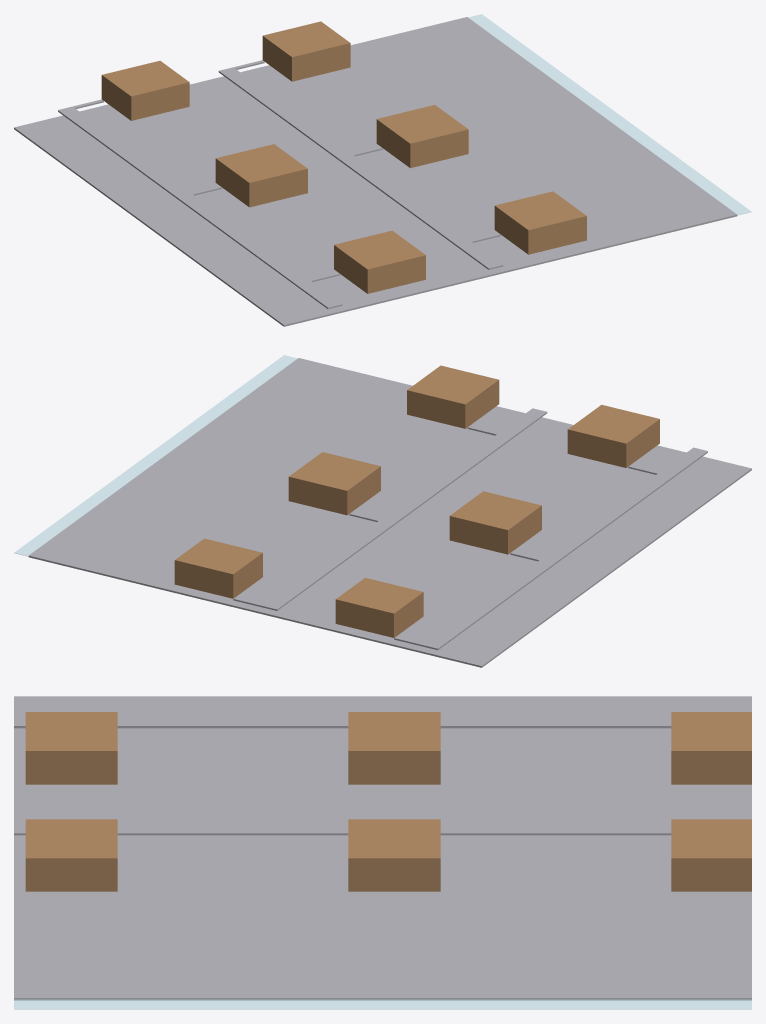
The model's file is city_c02_01.glb.
3 views of the same model, one above another, from view 1: azimuth 30°, elevation 25°; view 2: azimuth 150°, elevation 25°; view 3: azimuth 270°, elevation 25° (orthographic). The views are drawn at different scales.
Visible parts, largest first — view 1: terrain_east_proxy__c02_01, road_east_0__c02_01, road_east_1__c02_01, building_035__c02_01, building_036__c02_01, building_045__c02_01, building_046__c02_01, building_025__c02_01, building_026__c02_01, river_water_proxy__c02_01; view 2: terrain_east_proxy__c02_01, road_east_0__c02_01, road_east_1__c02_01, building_036__c02_01, building_045__c02_01, building_035__c02_01, building_046__c02_01, building_025__c02_01, building_026__c02_01, river_water_proxy__c02_01; view 3: terrain_east_proxy__c02_01, river_water_proxy__c02_01, building_035__c02_01, building_036__c02_01, building_045__c02_01, building_046__c02_01, road_east_1__c02_01, road_east_0__c02_01, building_025__c02_01, building_026__c02_01.
Boxes of the visible parts, x1,y1,x2,y2 form: terrain_east_proxy__c02_01: (14,17,737,326); road_east_0__c02_01: (218,67,503,269); road_east_1__c02_01: (58,106,342,309); building_035__c02_01: (376,105,468,168); building_036__c02_01: (215,144,307,207); building_045__c02_01: (494,191,586,254); building_046__c02_01: (334,230,425,293); building_025__c02_01: (262,21,350,81); building_026__c02_01: (101,60,189,120); river_water_proxy__c02_01: (468,14,751,215); terrain_east_proxy__c02_01: (28,358,751,667); road_east_0__c02_01: (262,408,547,610); road_east_1__c02_01: (423,447,707,650); building_036__c02_01: (449,491,541,554); building_045__c02_01: (407,365,499,428); building_035__c02_01: (288,452,380,515); building_046__c02_01: (567,404,659,467); building_025__c02_01: (174,538,262,598); building_026__c02_01: (335,577,423,637); river_water_proxy__c02_01: (14,355,297,556); terrain_east_proxy__c02_01: (14,696,751,1000); river_water_proxy__c02_01: (14,999,751,1009); building_035__c02_01: (348,819,440,891); building_036__c02_01: (348,712,440,784); building_045__c02_01: (25,819,117,891); building_046__c02_01: (25,712,117,784); road_east_1__c02_01: (14,716,671,728); road_east_0__c02_01: (14,823,671,835); building_025__c02_01: (671,819,751,891); building_026__c02_01: (671,712,751,784).
Bounding box in the file's own units: 128 × 8.6 × 128.
